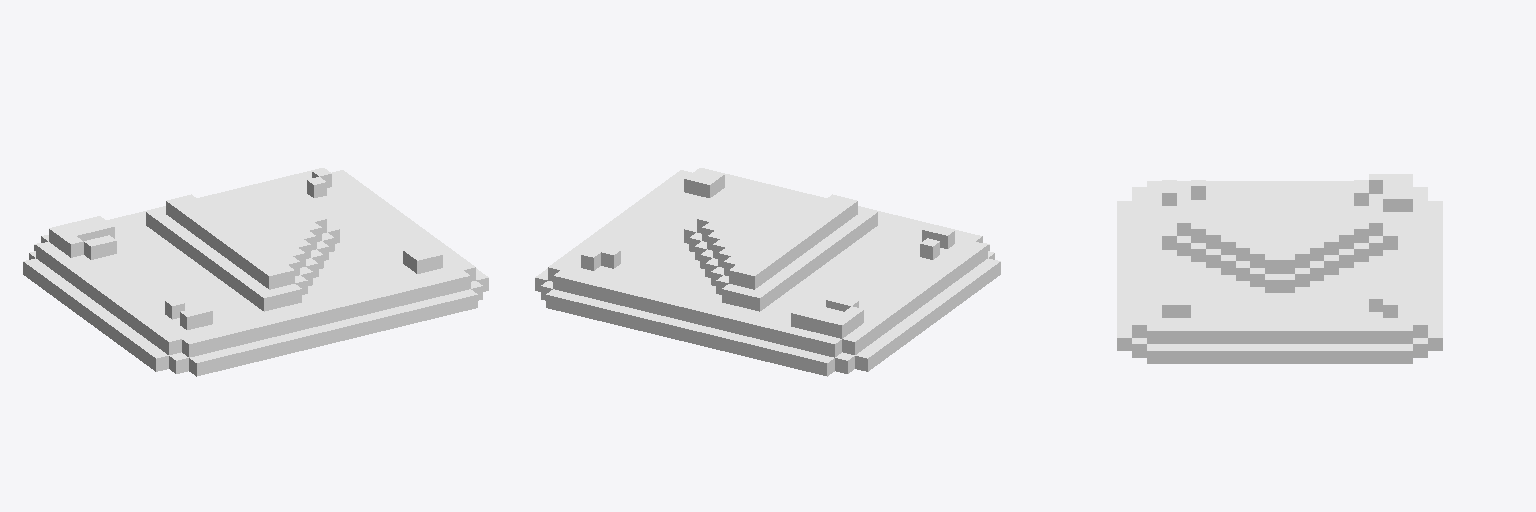
File: botonplay.obj
3 views of the same model, side by side, from view 1: azimuth 30°, elevation 25°; view 2: azimuth 150°, elevation 25°; view 3: azimuth 270°, elevation 25° (orthographic).
Parts seen in each view (by area): view 1: object 1; view 2: object 1; view 3: object 1.
Boxes of the visible parts, box(x1,y1,x2,y2) form: object 1: box(23, 168, 488, 376); object 1: box(535, 168, 1000, 376); object 1: box(1117, 174, 1442, 363).
Bounding box in the file's own units: 2.6 × 0.4 × 2.2.